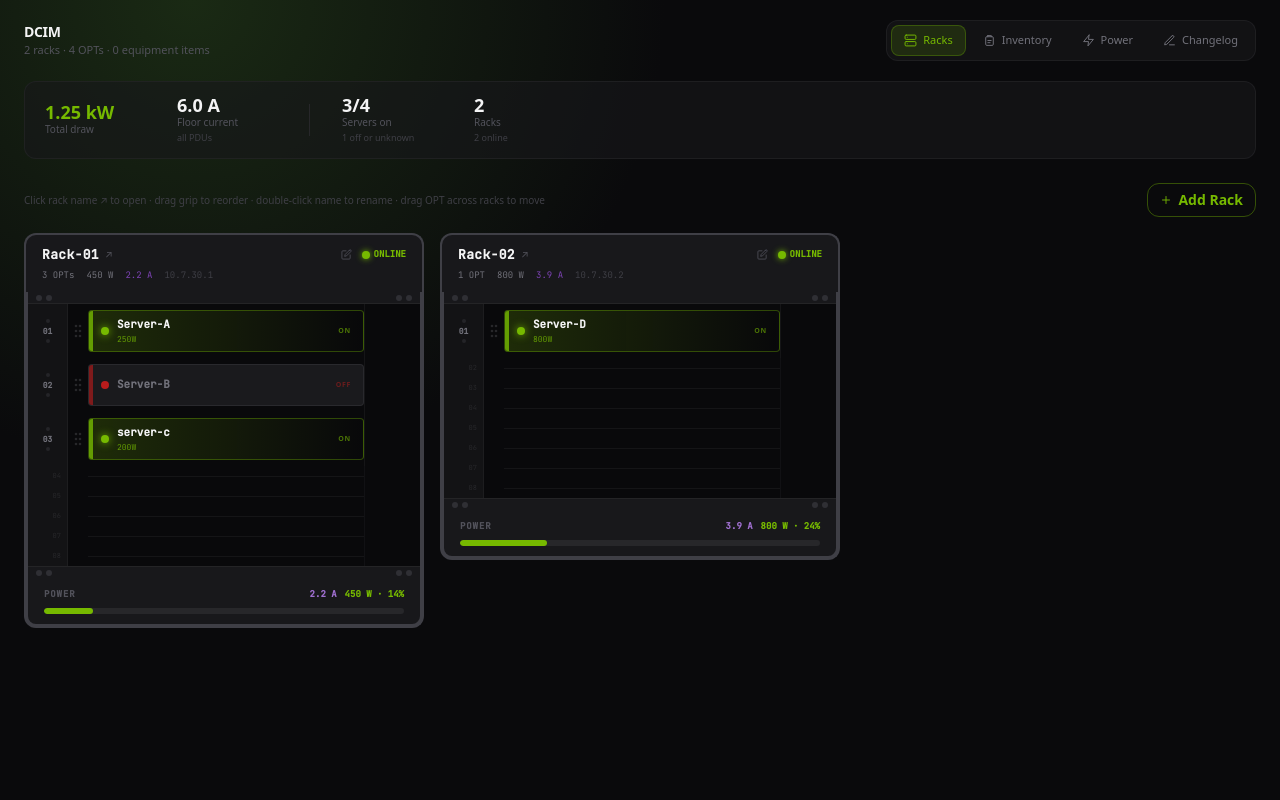
Test: DcimView — Inventory sub-view › filters by power state
This screenshot has width=1280, height=800.
Click the button "Inventory" at {"x": 1017, "y": 40}, box [970,25,1065,56]
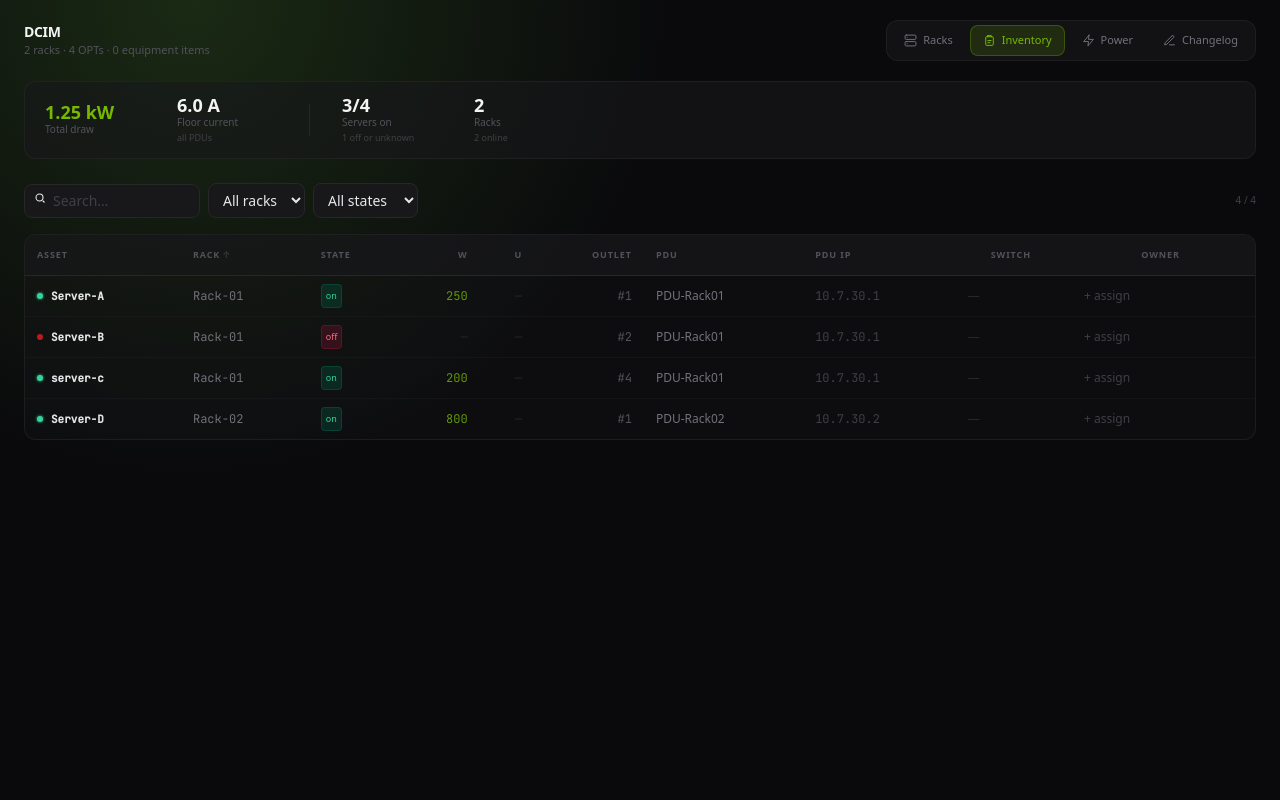
Select "On" in the 2nd dropdown at {"x": 366, "y": 200}, box [313,183,418,218]
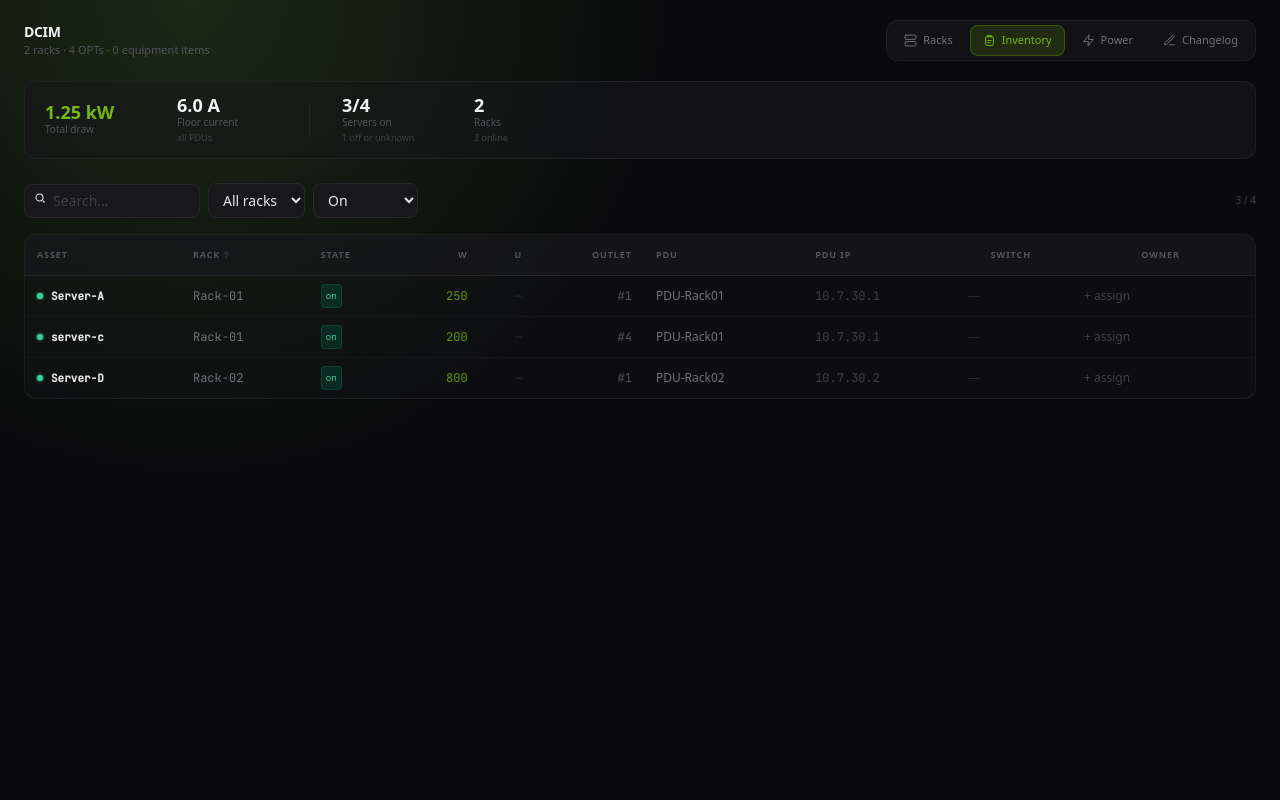
Check: the text "Server-A" is shown, box [51,286,104,306]
Check: the text "Server-B" is gone
